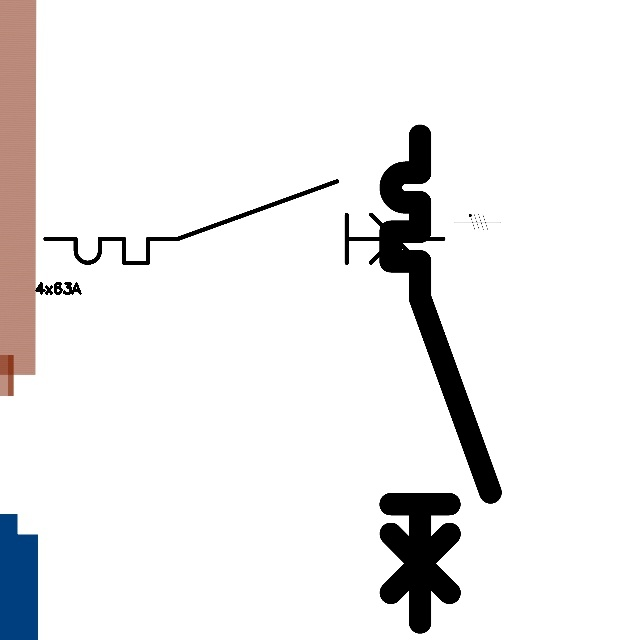interruptor_termomagnetico: (378, 123, 503, 635), (35, 171, 453, 273)
